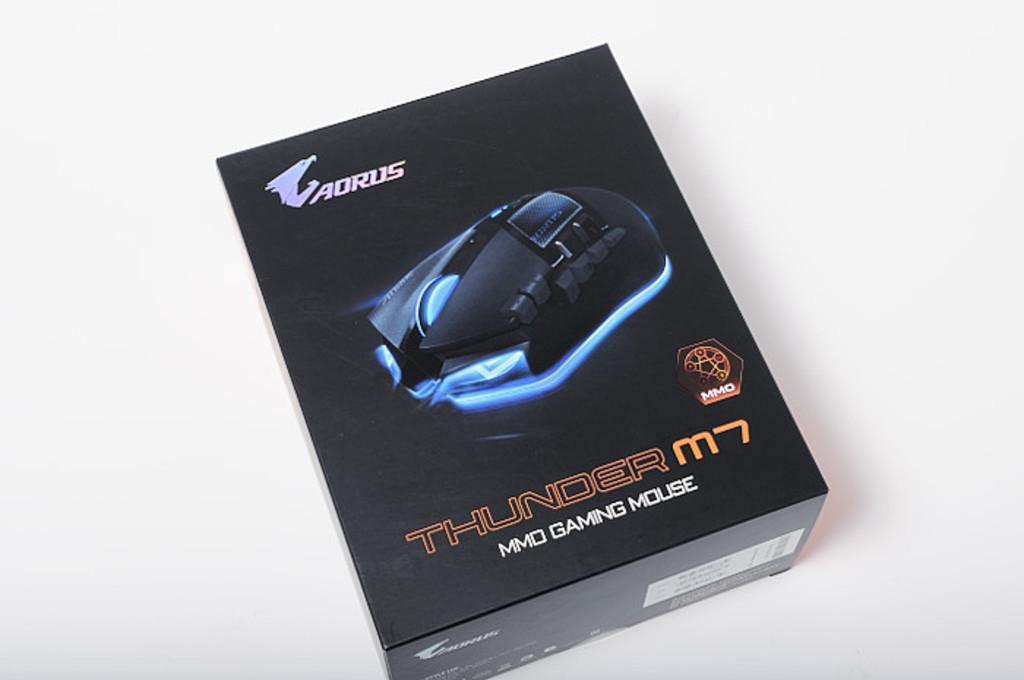Computer-mouse: (380, 187, 682, 388)
